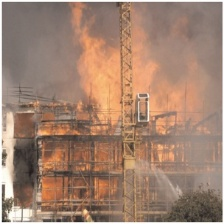fire: (69, 3, 196, 122)
smoke: (4, 2, 220, 96), (11, 145, 41, 192)
